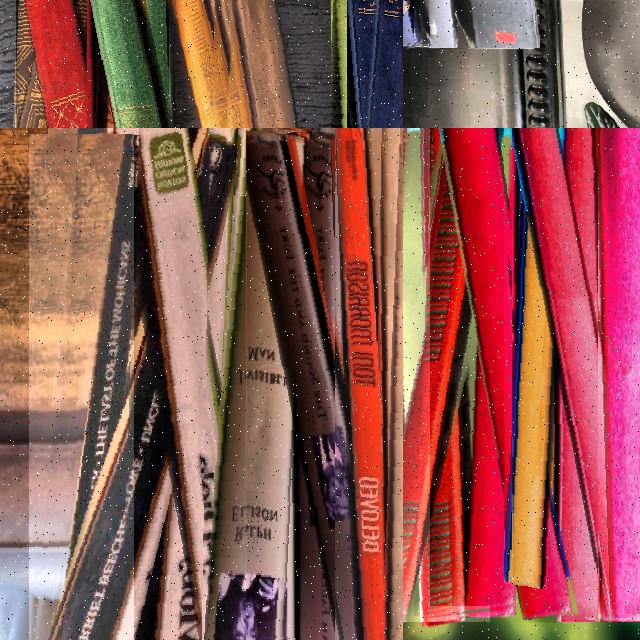Books: (51, 134, 233, 640), (247, 132, 394, 640), (134, 128, 264, 640), (438, 128, 572, 605), (521, 128, 640, 621), (207, 128, 308, 640), (403, 128, 490, 618), (335, 128, 398, 640), (51, 128, 113, 640), (504, 128, 573, 584), (600, 128, 640, 620), (91, 0, 169, 128), (21, 0, 96, 128), (172, 0, 240, 128), (230, 0, 297, 128), (27, 0, 89, 128), (333, 0, 387, 128), (104, 0, 138, 128)
